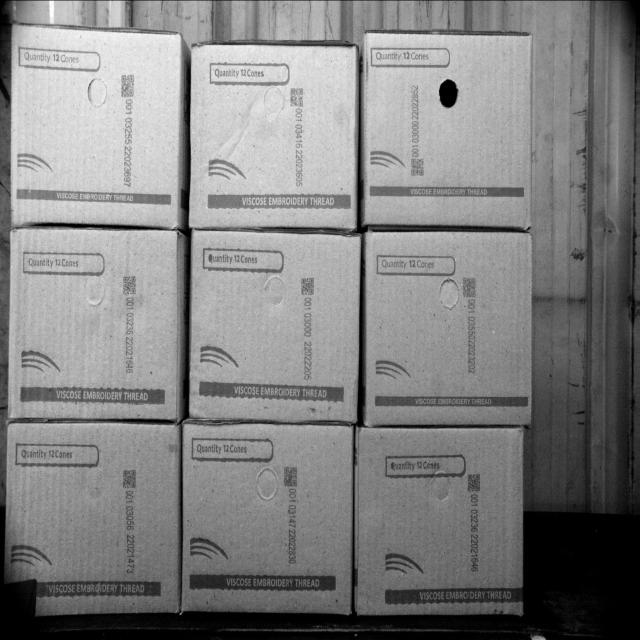cardboxes: (3, 422, 178, 614), (11, 28, 180, 225), (366, 28, 536, 221), (364, 233, 532, 427), (8, 228, 181, 414), (184, 429, 354, 617), (356, 429, 523, 619), (192, 232, 357, 418), (192, 42, 357, 225)
